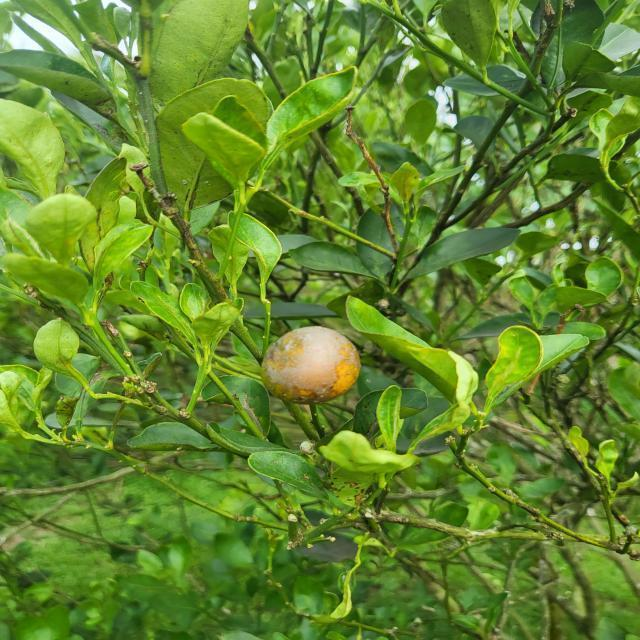thrips: (258, 321, 364, 408)
